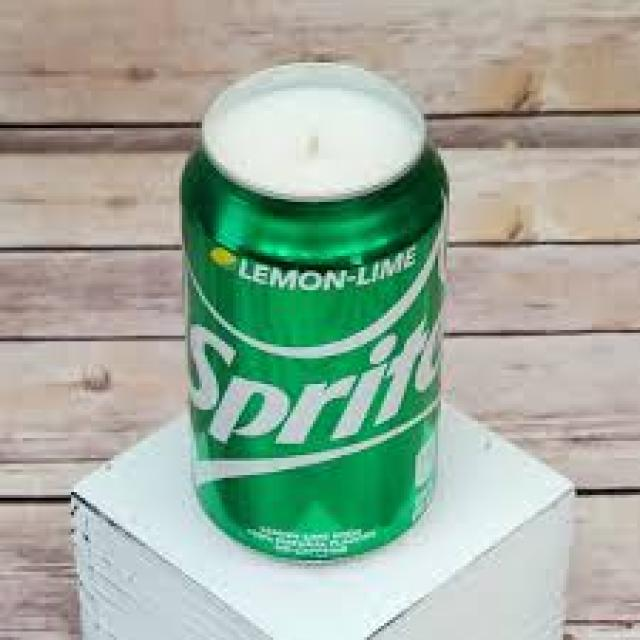aluminum_can: (182, 63, 449, 562)
